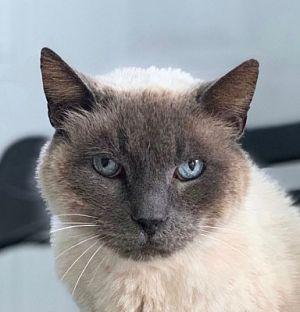siamese: (19, 32, 279, 271)
